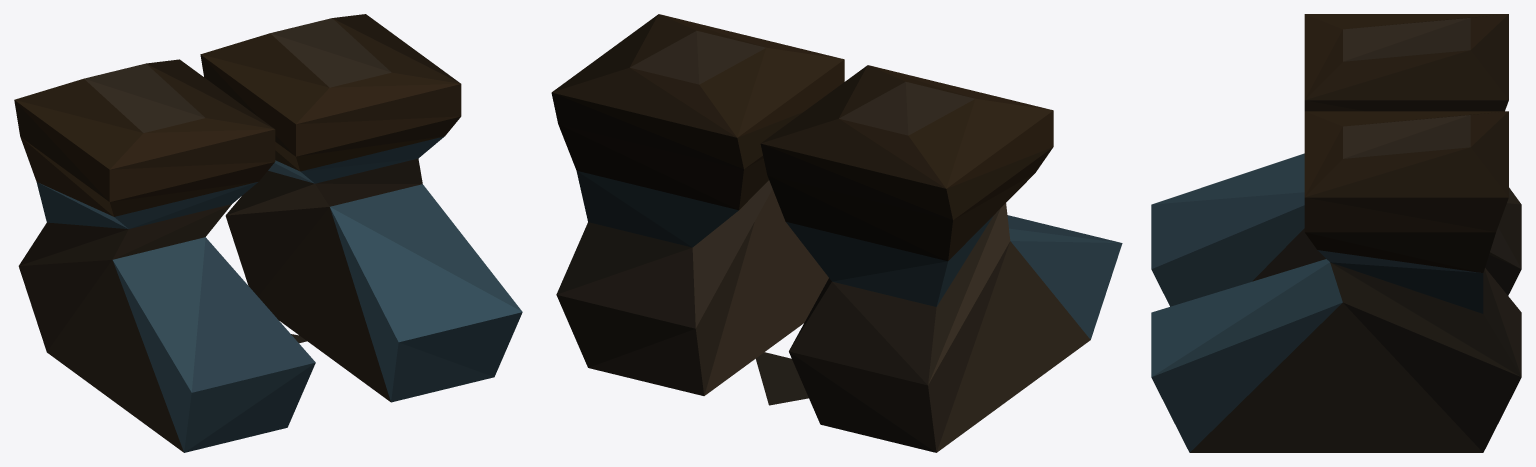
Rendered from runite-boots.obj.
3 views of the same model, side by side, from view 1: azimuth 30°, elevation 25°; view 2: azimuth 150°, elevation 25°; view 3: azimuth 270°, elevation 25° (orthographic). The views are drawn at different scales.
Visible parts, largest first — view 1: Item Rune boots 2026-09-24_18-24-14; view 2: Item Rune boots 2026-09-24_18-24-14; view 3: Item Rune boots 2026-09-24_18-24-14.
Boxes of the visible parts, x1,y1,x2,y2 form: Item Rune boots 2026-09-24_18-24-14: (14, 14, 522, 452); Item Rune boots 2026-09-24_18-24-14: (551, 14, 1122, 452); Item Rune boots 2026-09-24_18-24-14: (1151, 14, 1521, 452).
Bounding box in the file's own units: 34 × 25 × 29.
